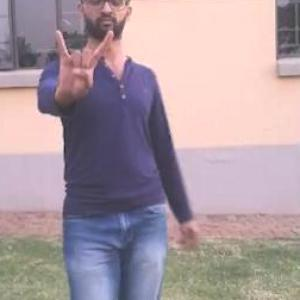takeoff-hand: (41, 14, 116, 104)
